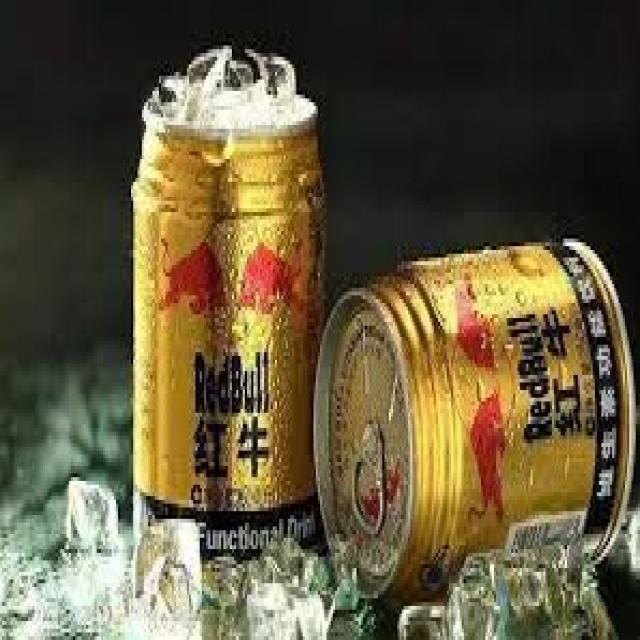Kaleng: (320, 232, 640, 592), (129, 44, 328, 559)
